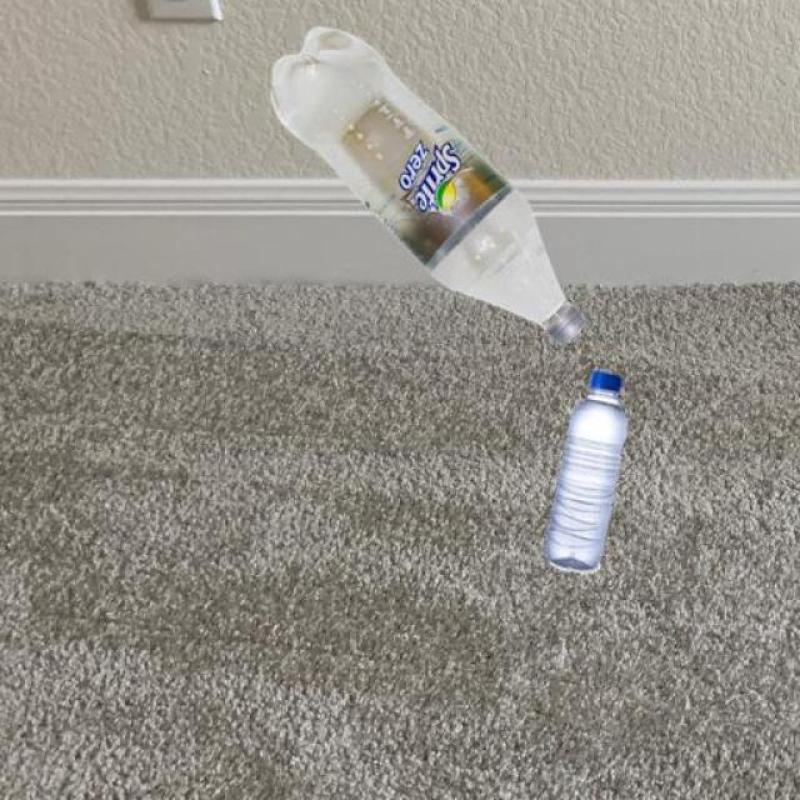botella: (269, 26, 586, 344), (542, 370, 630, 575)
